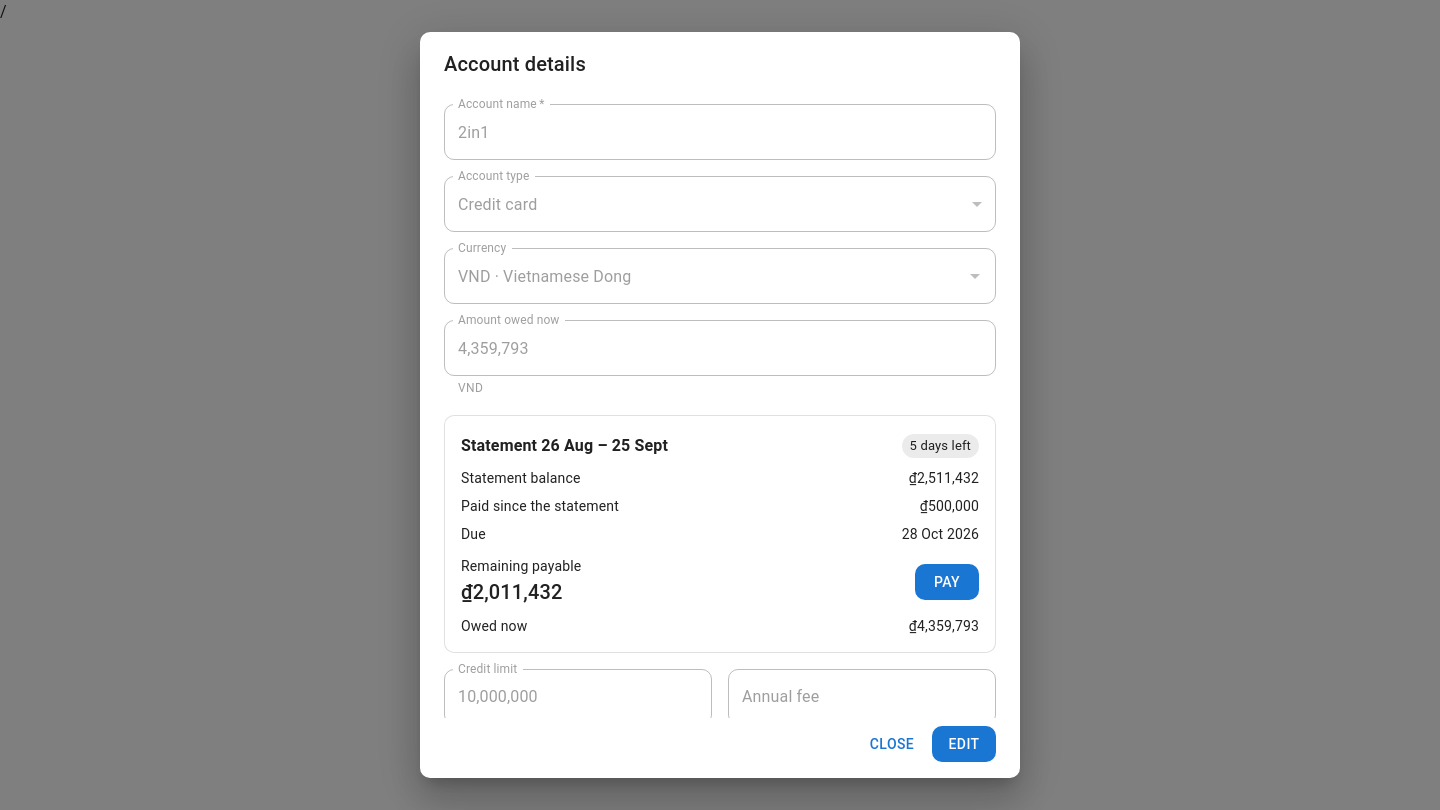
a credit card's bill (waterflow#37) › shows in the card's details, not while editing
Check: the heading "Statement 26 Aug – 25 Sept" is shown, box [461,432,668,460]
Click the button "Edit": (964, 744) [932,726,996,762]
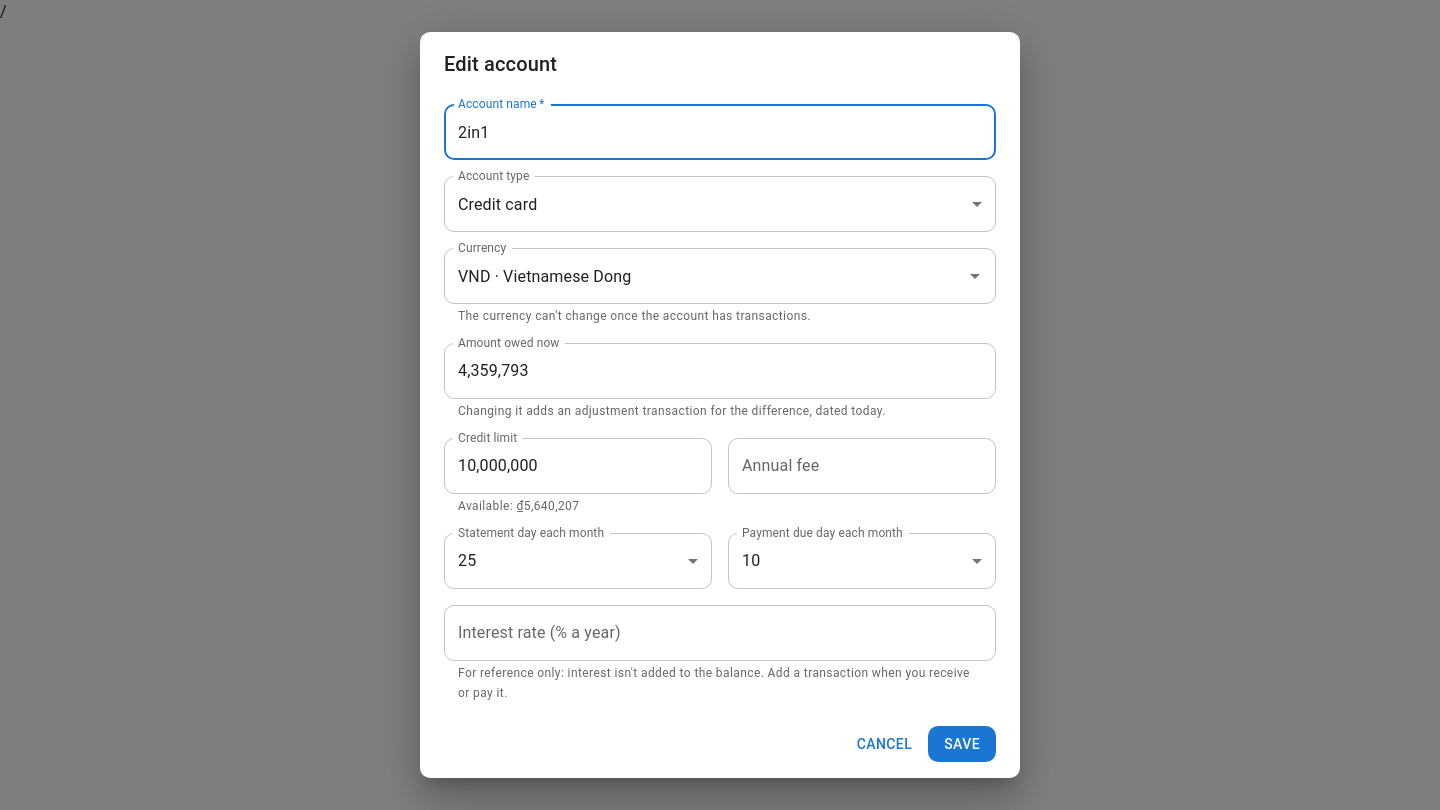
Check: the heading "Statement 26 Aug – 25 Sept" is gone
